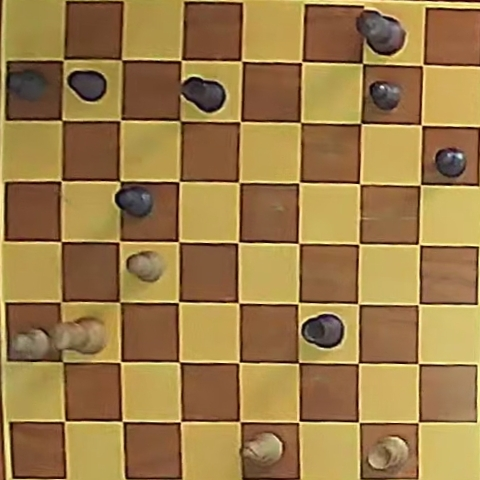black-king: (356, 10, 405, 55)
black-pawn: (8, 69, 48, 101), (68, 70, 107, 102), (115, 185, 153, 217), (434, 147, 466, 177), (369, 81, 402, 110)
black-rook: (181, 76, 225, 113), (302, 314, 344, 348)
white-bishop: (242, 433, 283, 471)
white-king: (53, 318, 106, 354)
white-pawn: (11, 328, 51, 360), (126, 251, 164, 282)
white-rook: (366, 435, 408, 471)
